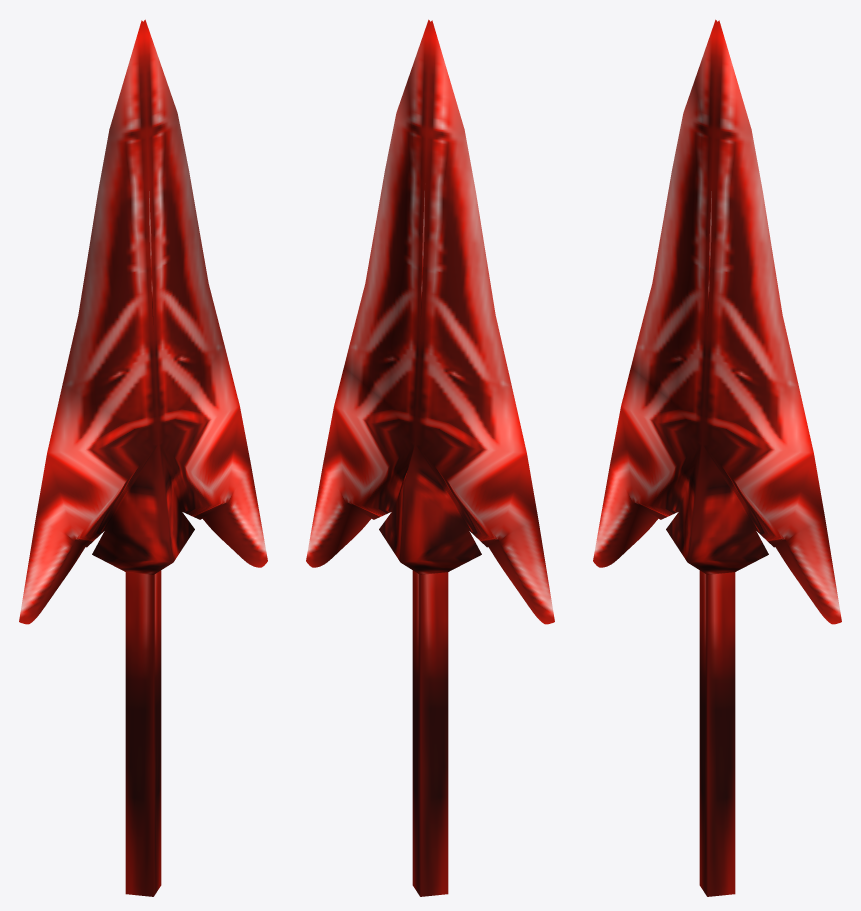
The model's file is changqiang.FBX.
3 renders of one model, left to right at view 1: azimuth 30°, elevation 25°; view 2: azimuth 150°, elevation 25°; view 3: azimuth 330°, elevation 25°, orthographic.
Visible parts, largest first — view 1: polySurface1; view 2: polySurface1; view 3: polySurface1.
Boxes of the visible parts, x1,y1,x2,y2 form: polySurface1: (19,19,267,896); polySurface1: (306,19,554,896); polySurface1: (593,19,841,896).
Size of the model in its own units: 3.84 by 12.41 by 1.54.
Materials: 1 (1 with a texture image).
